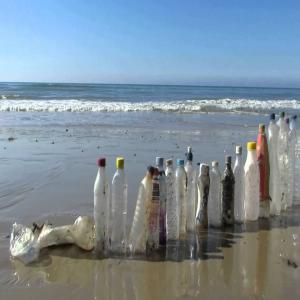Plastic-bottle: (131, 163, 157, 259), (32, 215, 95, 254), (94, 158, 112, 257), (112, 157, 129, 257), (245, 142, 261, 226), (10, 224, 41, 265), (279, 112, 291, 214), (269, 113, 280, 220), (186, 146, 198, 236), (166, 159, 179, 241), (198, 164, 212, 232), (223, 156, 236, 228), (210, 162, 223, 230), (235, 147, 245, 228), (292, 115, 300, 208)
